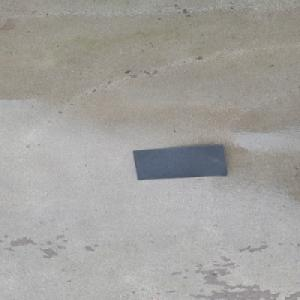PaintChip: (130, 144, 227, 181)
